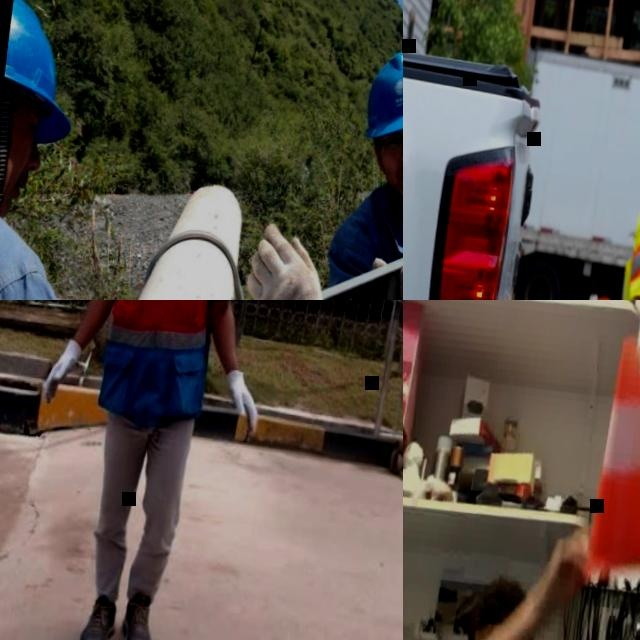Hardhat: (0, 0, 89, 145), (364, 44, 403, 146)
NO-Hardhat: (469, 570, 532, 640)
NO-Mask: (0, 129, 33, 214), (383, 151, 403, 202)
NO-Safety Vest: (313, 173, 403, 300), (0, 186, 43, 300)
Person: (10, 300, 299, 640), (221, 0, 403, 300), (0, 0, 143, 300), (406, 493, 640, 640), (291, 39, 403, 300), (587, 31, 640, 300)
Safety Cone: (562, 318, 640, 597), (596, 294, 617, 300)
Safety Vest: (100, 300, 238, 359)
vehicle: (403, 26, 630, 300)
